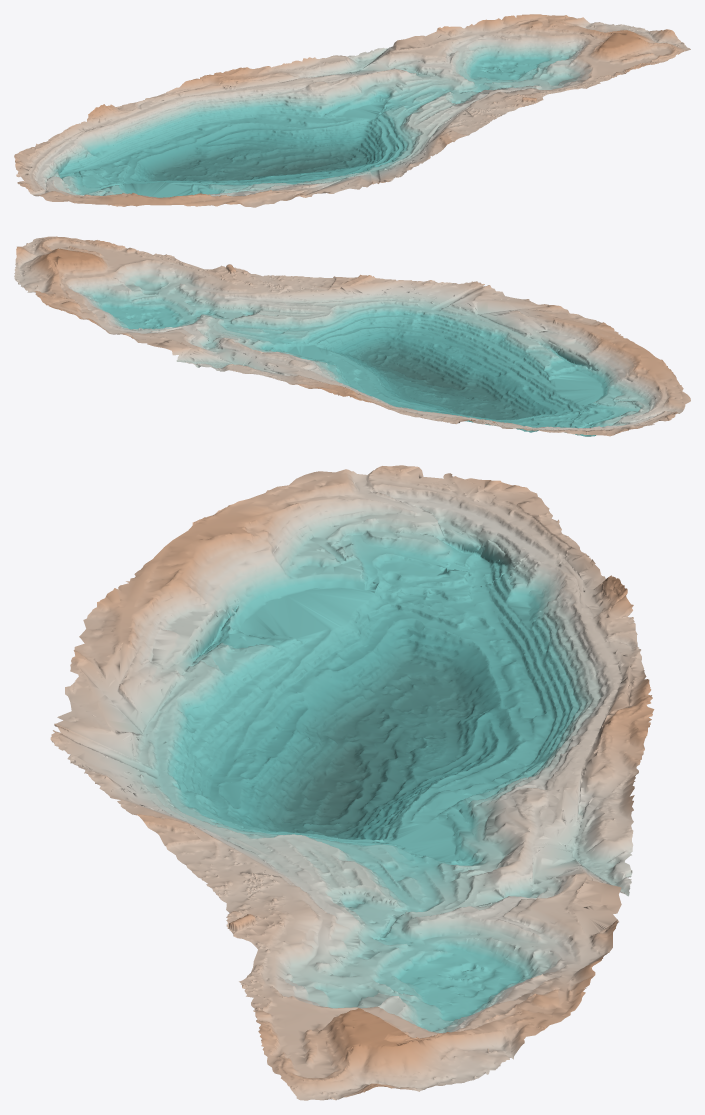
Rendered from topo_rajo.glb.
The picture shows the model from 3 angles, top to bottom: view 1: azimuth 30°, elevation 25°; view 2: azimuth 150°, elevation 25°; view 3: azimuth 270°, elevation 25°; orthographic projection. The views are drawn at different scales.
Visible parts, largest first — view 1: world; view 2: world; view 3: world.
Boxes of the visible parts, <box> form: world: <box>14,14,690,207</box>; world: <box>14,236,690,436</box>; world: <box>50,465,654,1100</box>.
Bounding box in the file's own units: 4141 × 265 × 1677.
